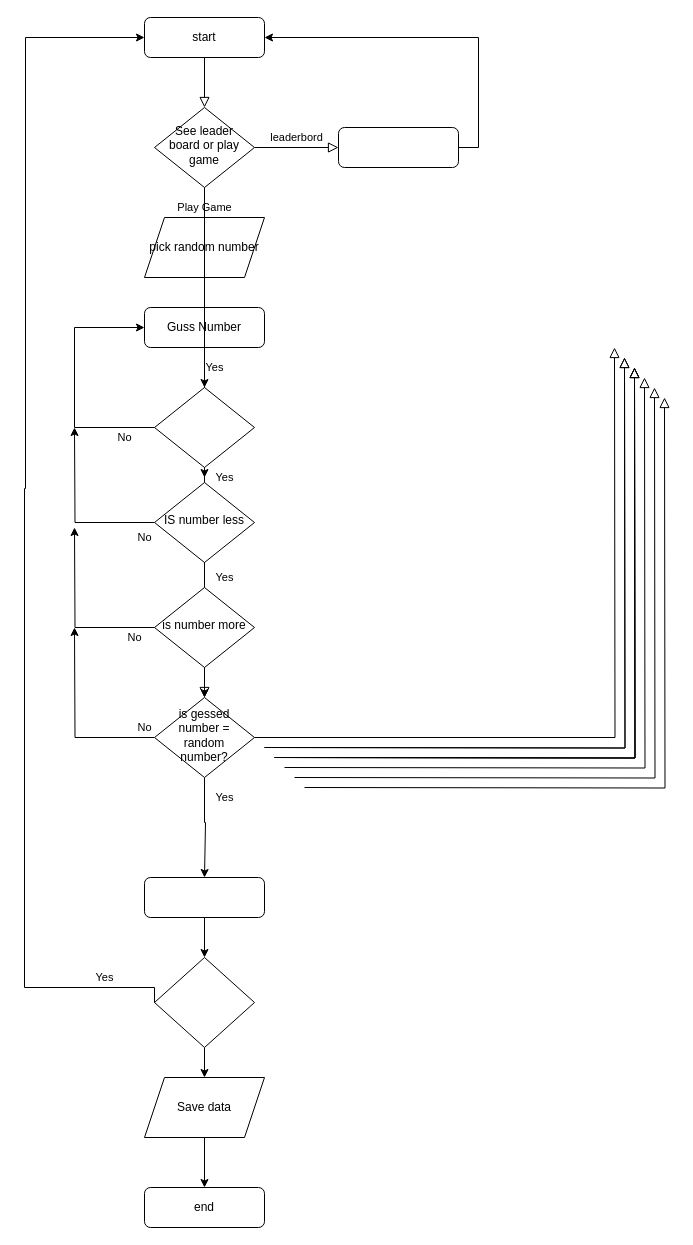
Some shapes in this 693 by 1245 pixel diagram are drawn without their labels. Here are the shapes that lost their labels. From the top down, the centre of each, then its label:
the point at 398,147: display leader bord
the point at 204,427: is number valid
the point at 204,897: End screen
the point at 204,1002: play agen?
